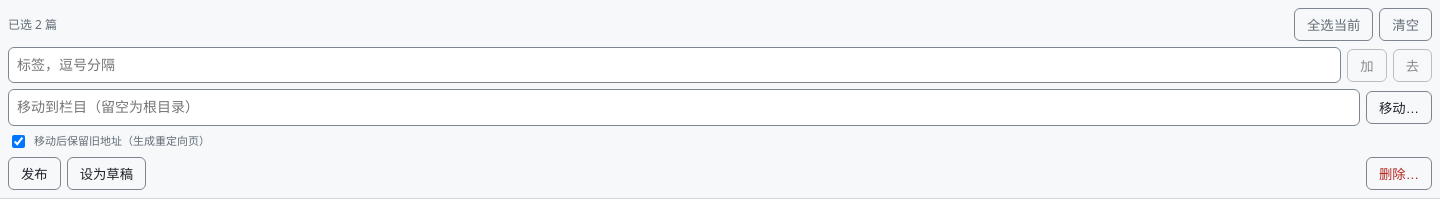
Test case: BatchBar › 忙的时候所有会写盘的按钮都置灰
Type "随笔" into the field named "批量标签" at (675, 65), box [8,47,1341,83]
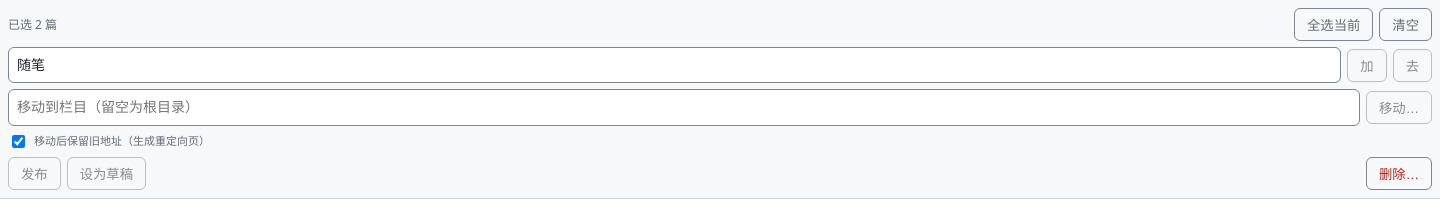
Now the button "移动…" is disabled, box [1366,91,1432,124]
Now the button "发布" is disabled, box [8,157,61,190]
Now the button "设为草稿" is disabled, box [67,157,146,190]
